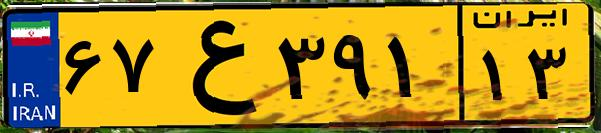1: (385, 28, 445, 110), (475, 38, 525, 113)
3: (270, 28, 330, 110), (525, 38, 570, 115)
6: (57, 26, 110, 100)
7: (110, 28, 158, 98)
9: (330, 28, 385, 110)
ع: (158, 12, 270, 120)
